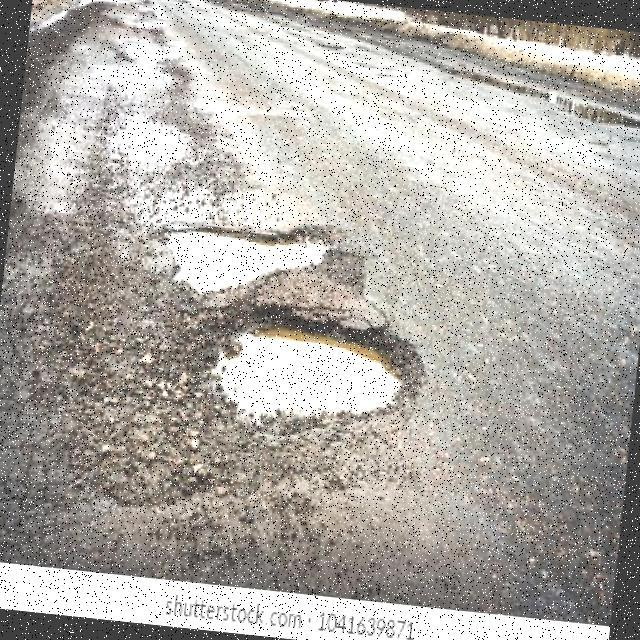Pothole: (217, 304, 424, 417), (164, 225, 329, 295)
